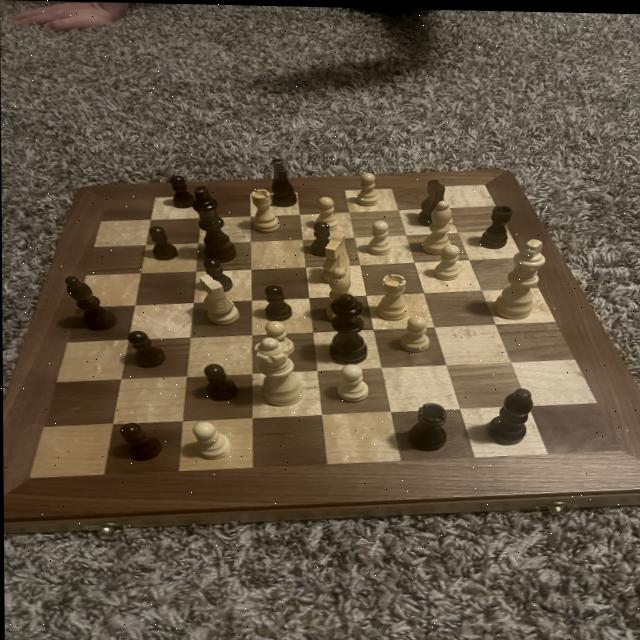bishop: (60, 272, 121, 333), (481, 383, 541, 445)
black-bishop: (188, 183, 238, 265)
black-king: (414, 174, 448, 225), (266, 159, 299, 208)
black-knight: (114, 419, 166, 464), (200, 361, 242, 407), (125, 329, 171, 369), (257, 281, 296, 323), (146, 222, 182, 263), (199, 255, 236, 293), (303, 217, 337, 258), (164, 171, 199, 210)
black-pawn: (320, 289, 372, 365)
black-queen: (404, 398, 451, 454), (478, 199, 515, 251)
black-rook: (417, 195, 456, 256), (321, 266, 358, 320)
white-bishop: (488, 232, 549, 323)
white-king: (193, 270, 242, 328), (315, 221, 353, 287)
white-knight: (189, 419, 233, 461), (335, 358, 373, 406), (427, 240, 468, 281), (395, 312, 434, 353), (353, 168, 382, 208), (311, 190, 338, 232), (365, 217, 393, 255)
white-pawn: (249, 333, 309, 412)
white-queen: (373, 270, 411, 322), (244, 184, 282, 235)
